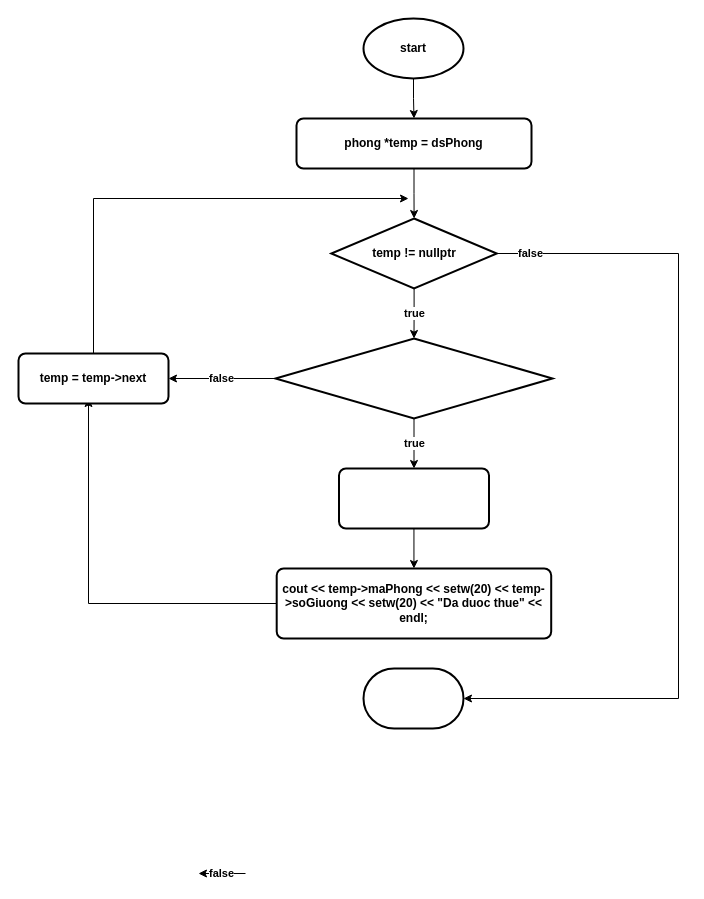
This 704x899 diagram has some shape labels left out. Here are the shapes that lost their labels. From the top down, the box of each, then its label:
(274, 337, 553, 419): temp->tinhTrang
(338, 467, 490, 529): cout << temp->maPhong
(362, 667, 464, 729): end
